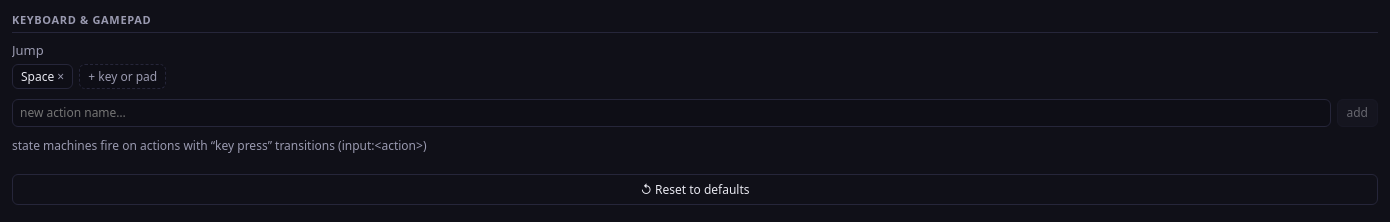
it: reads nothing before a capture starts and stops reading on unmount
Click the button "+ key or pad". click: (123, 76)
box: [79,64,166,89]
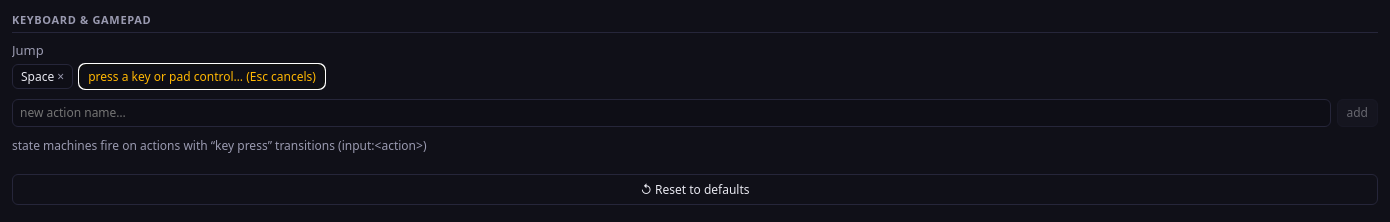
Result: the button "press a key or pad control… (Esc cancels)" is shown at [79,64,325,89]
